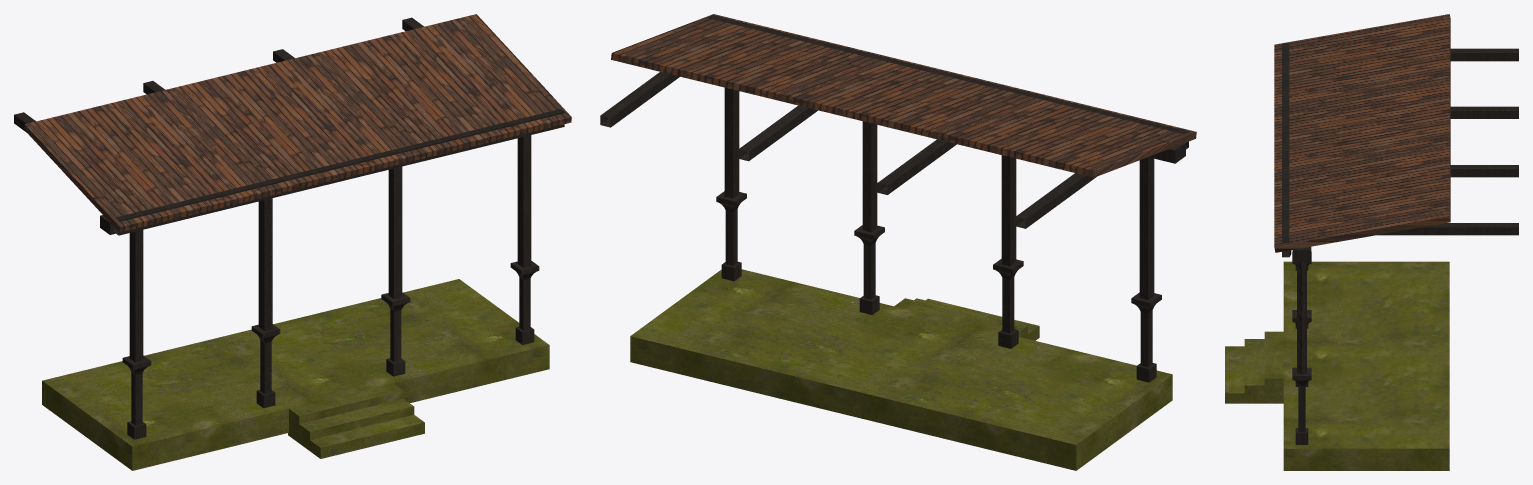
File: Module_Veranda.fbx
3 views of the same model, side by side, from view 1: azimuth 30°, elevation 25°; view 2: azimuth 150°, elevation 25°; view 3: azimuth 270°, elevation 25° (orthographic). The views are drawn at different scales.
Visible parts, largest first — view 1: ROOF_veranda, VERANDA_platform, KIT_TopTrim_2x1_polySurface101, KIT_Column_TowerOverhangColumn, KIT_Column_TowerOverhangColumn.003, KIT_Column_TowerOverhangColumn.001, KIT_Column_TowerOverhangColumn.002, VERANDA_step_0, VERANDA_step_2, VERANDA_step_1; view 2: VERANDA_platform, ROOF_veranda, KIT_Column_TowerOverhangColumn.001, KIT_Column_TowerOverhangColumn.003, KIT_Column_TowerOverhangColumn, KIT_Column_TowerOverhangColumn.002, KIT_TopTrim_2x1_polySurface101, KIT_WoodenSupportStraight_polySurface139.001, KIT_WoodenSupportStraight_polySurface139.003, KIT_WoodenSupportStraight_polySurface139, KIT_WoodenSupportStraight_polySurface139.002, VERANDA_step_2; view 3: ROOF_veranda, VERANDA_platform, KIT_Column_TowerOverhangColumn, KIT_TopTrim_2x1_polySurface101, VERANDA_step_2, KIT_WoodenSupportStraight_polySurface139, VERANDA_step_1, VERANDA_step_0, KIT_WoodenSupportStraight_polySurface139.001, KIT_WoodenSupportStraight_polySurface139.002, KIT_WoodenSupportStraight_polySurface139.003.
Boxes of the visible parts, box(x1,y1,x2,y2) form: ROOF_veranda: box(24, 14, 571, 232); VERANDA_platform: box(42, 279, 549, 470); KIT_TopTrim_2x1_polySurface101: box(113, 109, 564, 235); KIT_Column_TowerOverhangColumn: box(510, 135, 539, 344); KIT_Column_TowerOverhangColumn.003: box(381, 166, 410, 376); KIT_Column_TowerOverhangColumn.001: box(122, 230, 151, 439); KIT_Column_TowerOverhangColumn.002: box(251, 198, 280, 408); VERANDA_step_0: box(309, 414, 424, 458); VERANDA_step_2: box(288, 382, 403, 442); VERANDA_step_1: box(298, 398, 414, 450); VERANDA_platform: box(630, 269, 1172, 470); ROOF_veranda: box(611, 14, 1196, 177); KIT_Column_TowerOverhangColumn.001: box(1131, 157, 1161, 382); KIT_Column_TowerOverhangColumn.003: box(854, 121, 884, 314); KIT_Column_TowerOverhangColumn: box(716, 87, 746, 281); KIT_Column_TowerOverhangColumn.002: box(993, 155, 1023, 348); KIT_TopTrim_2x1_polySurface101: box(708, 15, 1188, 149); KIT_WoodenSupportStraight_polySurface139.001: box(1015, 173, 1096, 228); KIT_WoodenSupportStraight_polySurface139.003: box(738, 105, 817, 161); KIT_WoodenSupportStraight_polySurface139: box(600, 72, 679, 127); KIT_WoodenSupportStraight_polySurface139.002: box(877, 139, 956, 194); VERANDA_step_2: box(894, 298, 1016, 331); ROOF_veranda: box(1274, 14, 1450, 252); VERANDA_platform: box(1283, 261, 1449, 470); KIT_Column_TowerOverhangColumn: box(1292, 261, 1311, 444); KIT_TopTrim_2x1_polySurface101: box(1282, 43, 1291, 257); VERANDA_step_2: box(1264, 331, 1285, 403); KIT_WoodenSupportStraight_polySurface139: box(1377, 223, 1518, 235); VERANDA_step_1: box(1244, 339, 1265, 403); VERANDA_step_0: box(1225, 346, 1245, 403); KIT_WoodenSupportStraight_polySurface139.001: box(1450, 48, 1518, 61); KIT_WoodenSupportStraight_polySurface139.002: box(1450, 106, 1518, 118); KIT_WoodenSupportStraight_polySurface139.003: box(1450, 165, 1518, 177).
Bounding box in the file's own units: 780 × 475 × 477.
3 materials, 3 textured.
